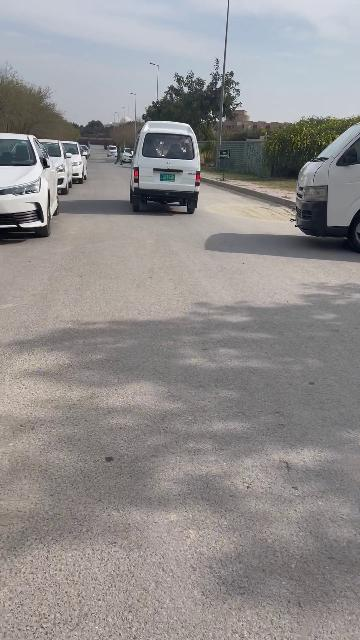plate: (160, 173, 175, 182)
